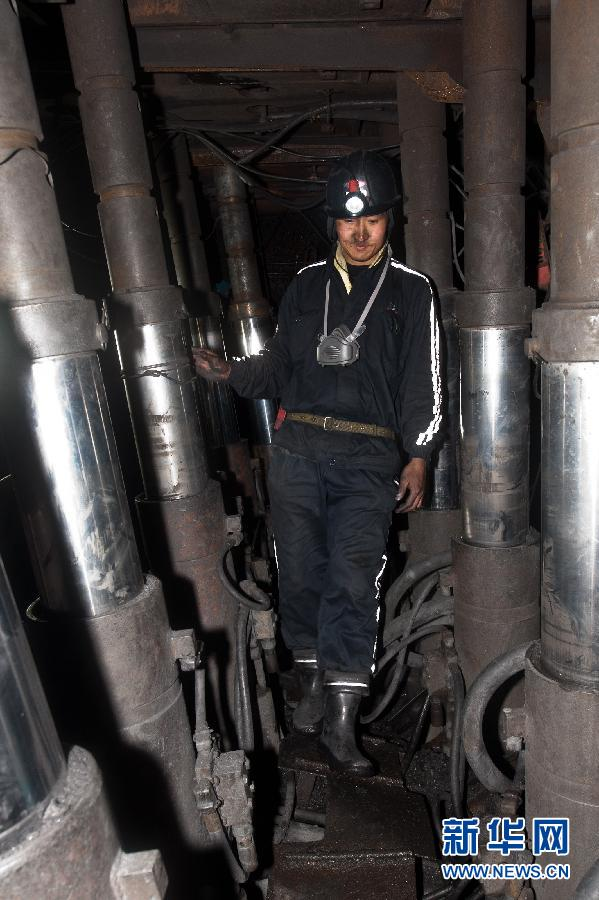helmet: (307, 155, 421, 273)
